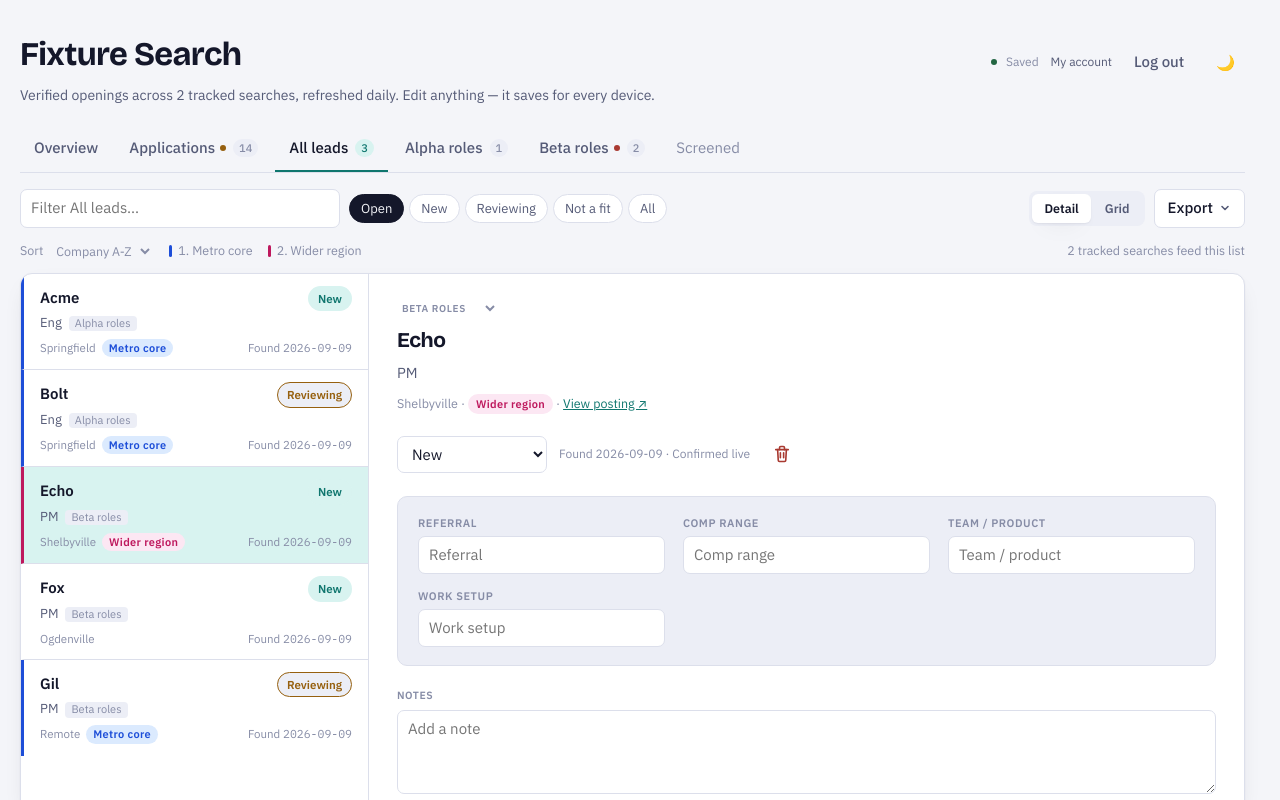
Scenario: marking a lead so it leaves the chip on screen › takes it out of Open, selects the row that followed it, and says where it went
Select "Not a fit" in the dropdown named "Status" at (472, 454), box [397,436,547,473]
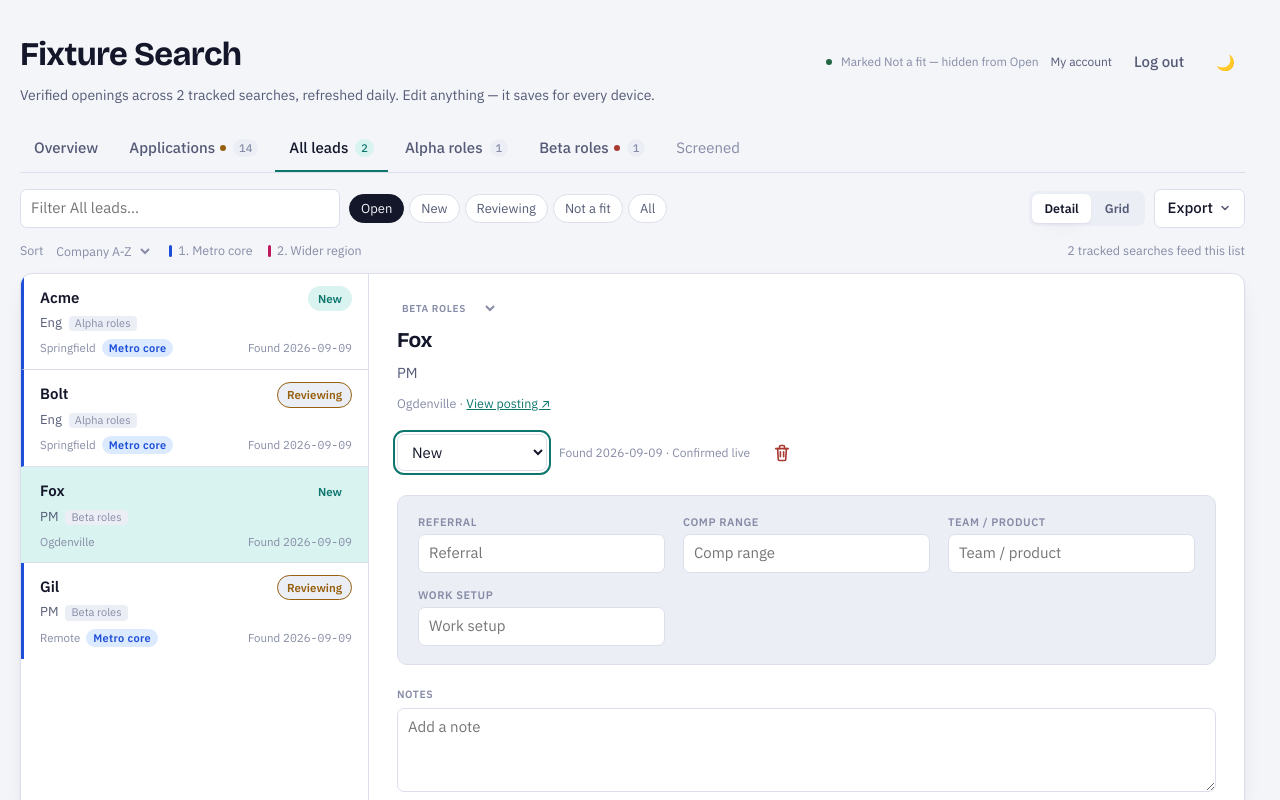
Expected: the text "Fox" is shown, [40,481,65,500]
Result: the message reads "Marked Not a fit — hidden from Open" at [841,54,1039,69]
